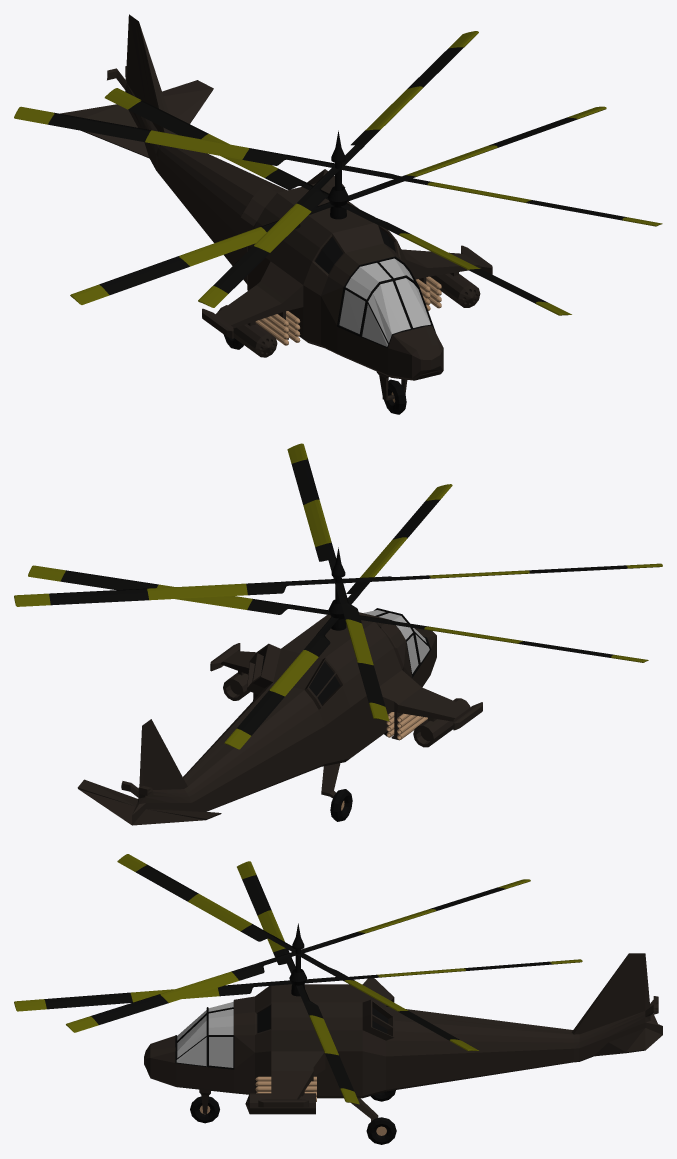
File: Helicopter 2.obj
3 renders of one model, top to bottom at view 1: azimuth 30°, elevation 25°; view 2: azimuth 150°, elevation 25°; view 3: azimuth 270°, elevation 25°, orthographic. The views are drawn at different scales.
Parts seen in each view (by area): view 1: Body_Plane, Body.001_Plane.001, rot_Plane.002, rot.004_Plane.006, rot.001_Plane.003, rot.005_Plane.007, w_2_Cylinder.004, rot.003_Plane.005, rot.007_Plane.009, rot.006_Plane.008, rot.002_Plane.004, Cylinder_Cylinder.002; view 2: Body_Plane, rot.003_Plane.005, rot.006_Plane.008, rot.005_Plane.007, rot.002_Plane.004, rot_Plane.002, rot.007_Plane.009, w_2_Cylinder.004, rot.001_Plane.003, rot.004_Plane.006, Body.001_Plane.001, Cylinder_Cylinder.002 (+1 smaller); view 3: Body_Plane, Body.001_Plane.001, rot.002_Plane.004, rot.001_Plane.003, rot.007_Plane.009, rot.004_Plane.006, rot.006_Plane.008, rot.003_Plane.005, rot_Plane.002, rot.005_Plane.007, w_2_Cylinder.004, BAN.001_Torus.001 (+2 smaller).
Boxes of the visible parts, x1,y1,x2,y2 form: Body_Plane: (60, 14, 492, 400); Body.001_Plane.001: (337, 256, 435, 348); rot_Plane.002: (14, 106, 334, 167); rot.004_Plane.006: (70, 202, 333, 304); rot.001_Plane.003: (198, 166, 340, 307); rot.005_Plane.007: (104, 88, 328, 199); w_2_Cylinder.004: (217, 273, 480, 357); rot.003_Plane.005: (342, 31, 478, 165); rot.007_Plane.009: (341, 203, 571, 315); rot.006_Plane.008: (347, 106, 606, 201); rot.002_Plane.004: (340, 165, 662, 226); Cylinder_Cylinder.002: (255, 276, 441, 345); Body_Plane: (77, 612, 482, 825); rot.003_Plane.005: (14, 579, 336, 606); rot.006_Plane.008: (28, 565, 330, 615); rot.005_Plane.007: (224, 616, 339, 749); rot.002_Plane.004: (287, 443, 341, 580); rot_Plane.002: (334, 581, 389, 721); rot.007_Plane.009: (346, 484, 452, 604); w_2_Cylinder.004: (223, 672, 470, 747); rot.001_Plane.003: (341, 563, 662, 583); rot.004_Plane.006: (344, 615, 648, 662); Body.001_Plane.001: (363, 608, 431, 677); Cylinder_Cylinder.002: (386, 712, 427, 739); Body_Plane: (144, 953, 662, 1121); Body.001_Plane.001: (175, 1000, 234, 1069); rot.002_Plane.004: (66, 951, 298, 1032); rot.001_Plane.003: (117, 854, 295, 952); rot.007_Plane.009: (14, 980, 292, 1011); rot.004_Plane.006: (237, 861, 295, 973); rot.006_Plane.008: (296, 984, 359, 1104); rot.003_Plane.005: (296, 952, 478, 1051); rot_Plane.002: (301, 879, 530, 952); rot.005_Plane.007: (305, 959, 582, 983); w_2_Cylinder.004: (245, 1093, 315, 1114); BAN.001_Torus.001: (366, 1090, 396, 1144).
Size of the model in its own units: 21.16 by 8.24 by 24.15.
